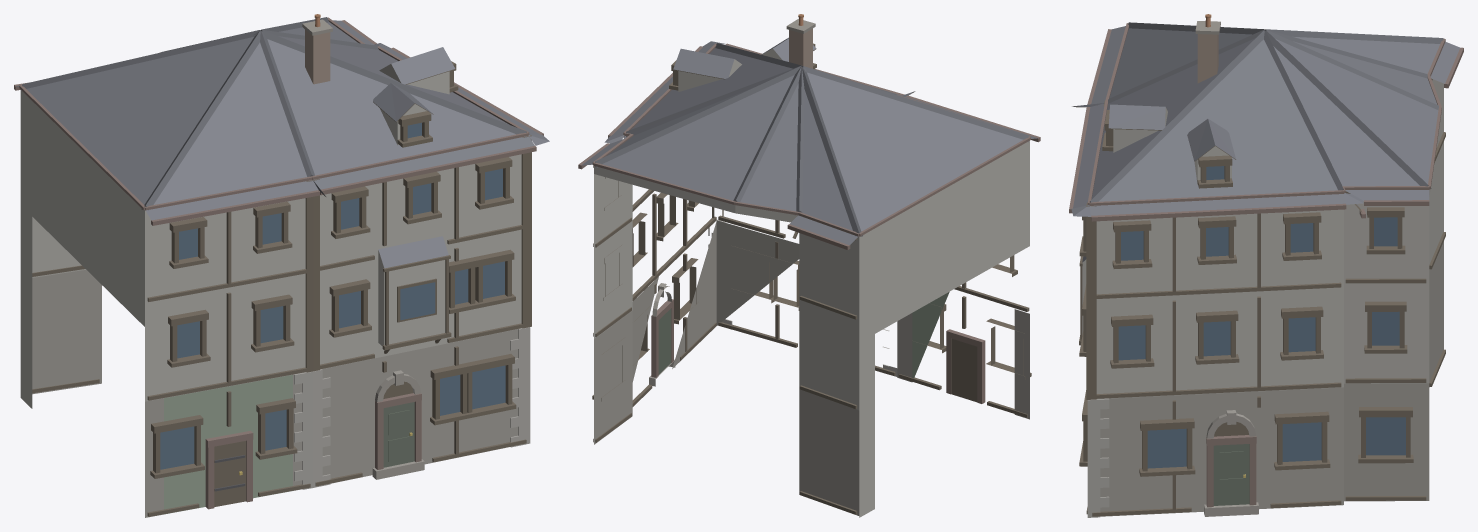
3 views of the same model, side by side, from view 1: azimuth 30°, elevation 25°; view 2: azimuth 150°, elevation 25°; view 3: azimuth 270°, elevation 25° (orthographic). The views are drawn at different scales.
Parts seen in each view (by area): view 1: B043_visible; view 2: B043_visible; view 3: B043_visible.
Boxes of the visible parts, left/top/right/bottom form: B043_visible: left=14, top=14, right=549, bottom=517; B043_visible: left=578, top=14, right=1040, bottom=517; B043_visible: left=1069, top=14, right=1463, bottom=517.
Bounding box in the file's own units: 14.81 × 15.66 × 13.07.
